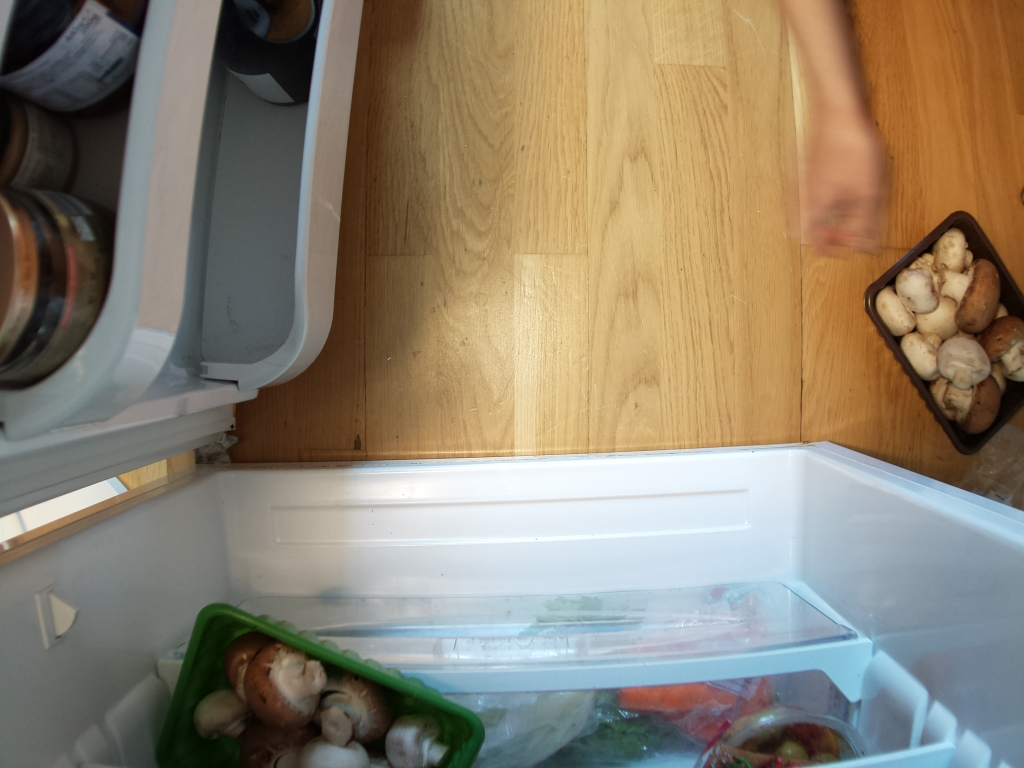mushrooms: (157, 602, 490, 768), (871, 211, 1024, 451)
